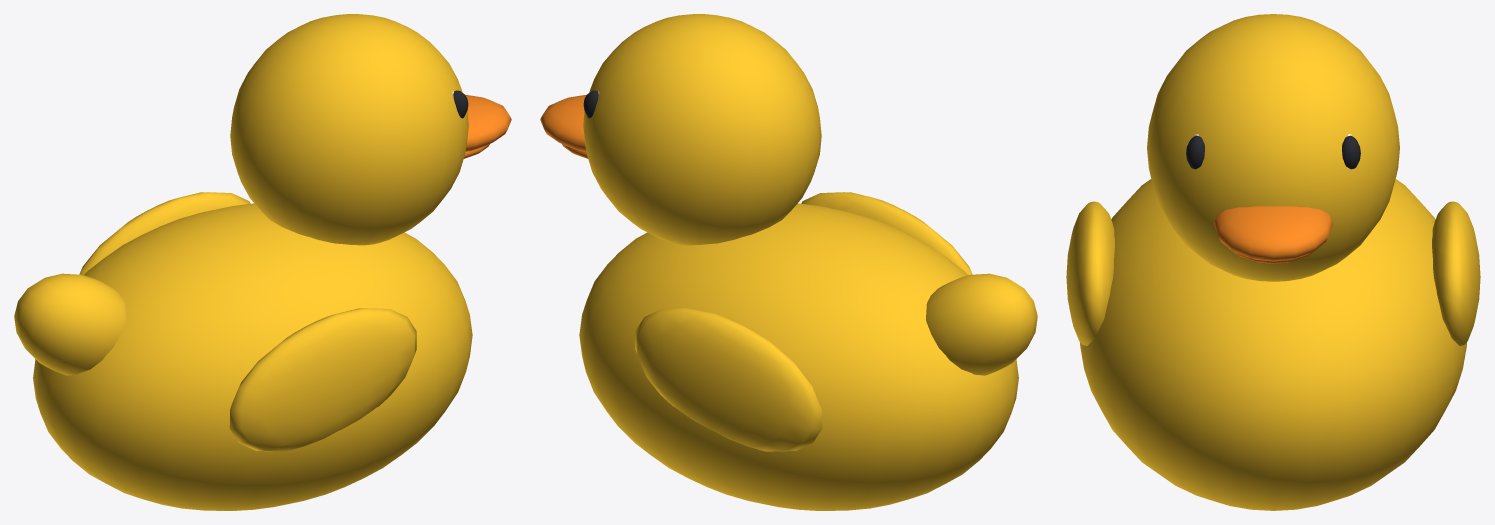
File: duck.glb
The picture shows the model from 3 angles, left to right: view 1: azimuth 30°, elevation 25°; view 2: azimuth 150°, elevation 25°; view 3: azimuth 270°, elevation 25°; orthographic projection. The views are drawn at different scales.
Parts seen in each view (by area): view 1: Body; view 2: Body; view 3: Body.
Boxes of the visible parts, x1,y1,x2,y2 form: Body: [14, 14, 511, 510]; Body: [540, 14, 1037, 510]; Body: [1066, 14, 1480, 510].
Size of the model in its own units: 2.77 by 2.4 by 1.8.
